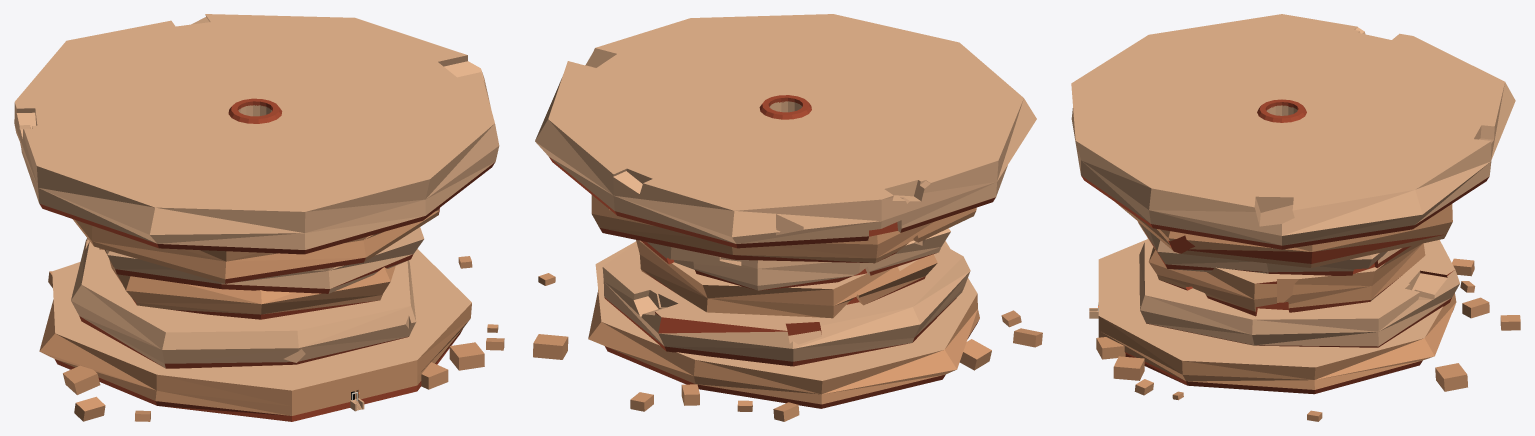
Rendered from palm_mesa.glb.
The picture shows the model from 3 angles, left to right: view 1: azimuth 30°, elevation 25°; view 2: azimuth 150°, elevation 25°; view 3: azimuth 270°, elevation 25°; orthographic projection. The views are drawn at different scales.
Visible parts, largest first — view 1: palm_mesa; view 2: palm_mesa; view 3: palm_mesa.
Part boxes in pixels (bbox=[...]): palm_mesa: bbox=[14, 14, 504, 421]; palm_mesa: bbox=[533, 14, 1042, 421]; palm_mesa: bbox=[1071, 14, 1520, 421].
Size of what is drawn, in the model's own units: 129 by 61.7 by 120.
